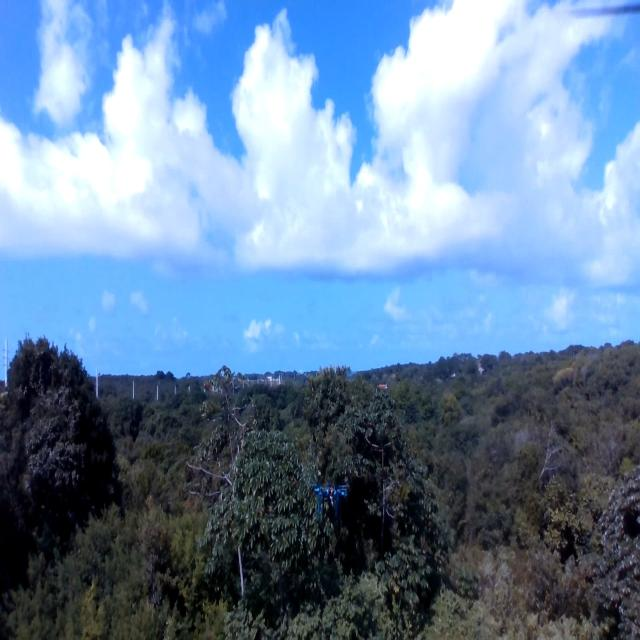-uav-: (312, 464, 354, 539)
